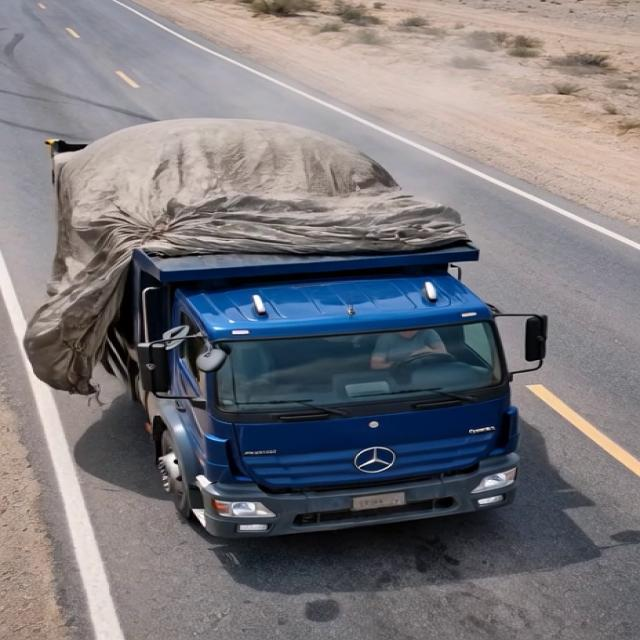Box: (38, 131, 496, 269)
Truck: (27, 102, 565, 578)
